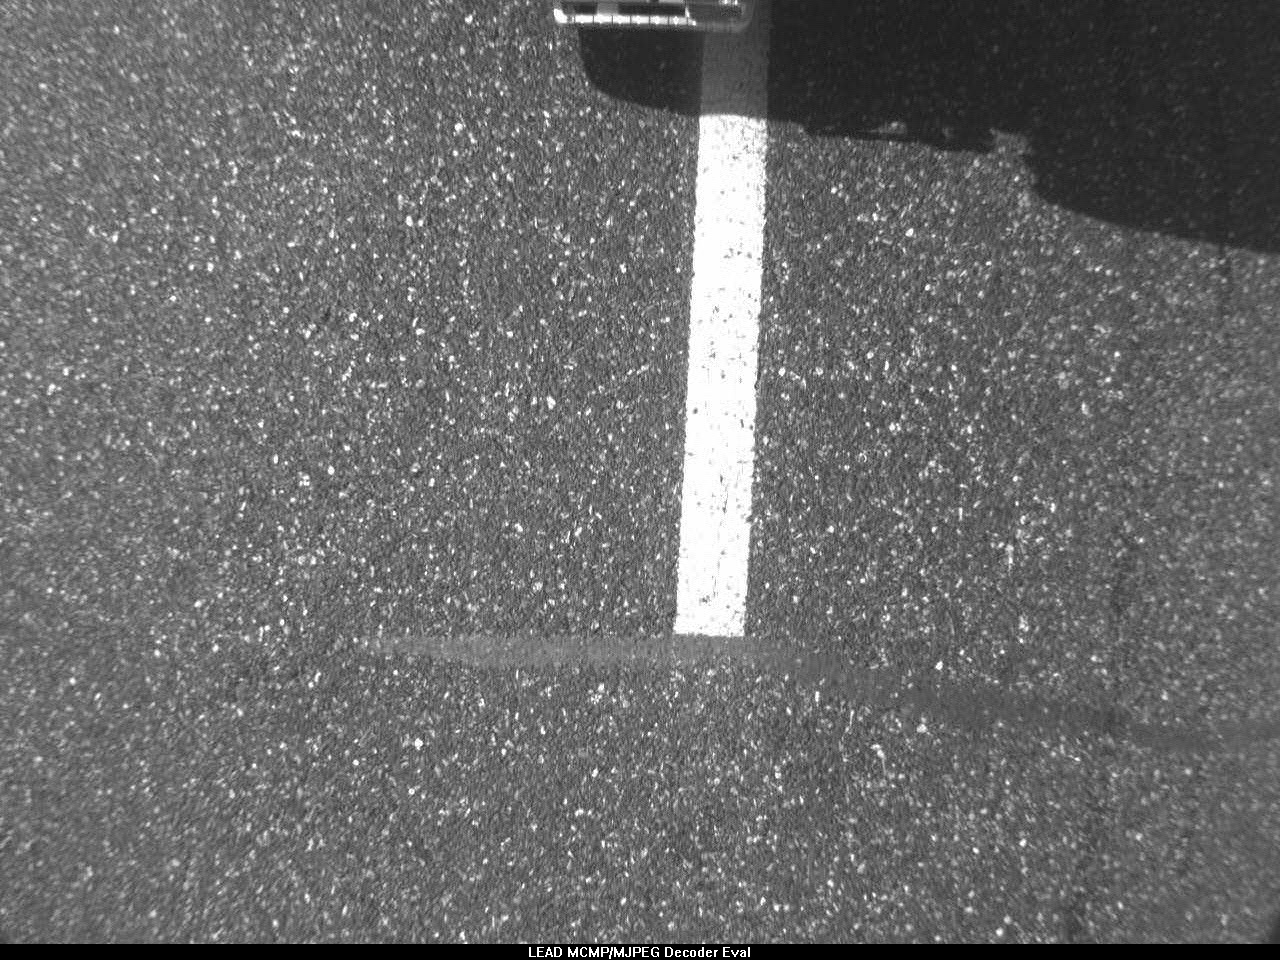sealed: (358, 606, 1207, 749)
